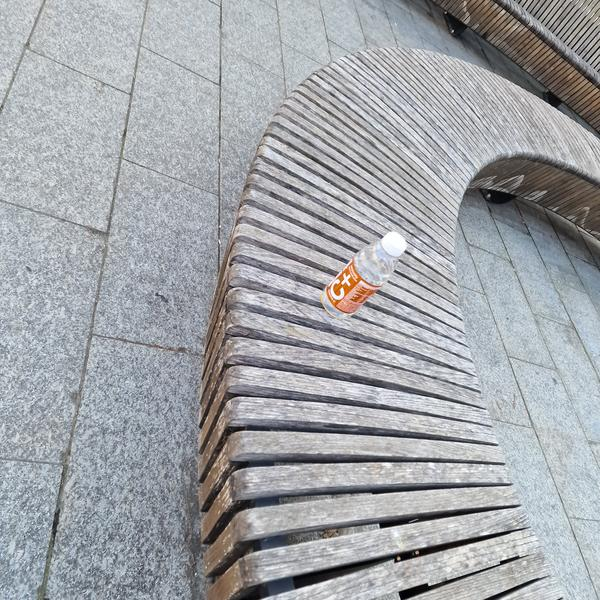plastic_bottle: (313, 222, 418, 326)
